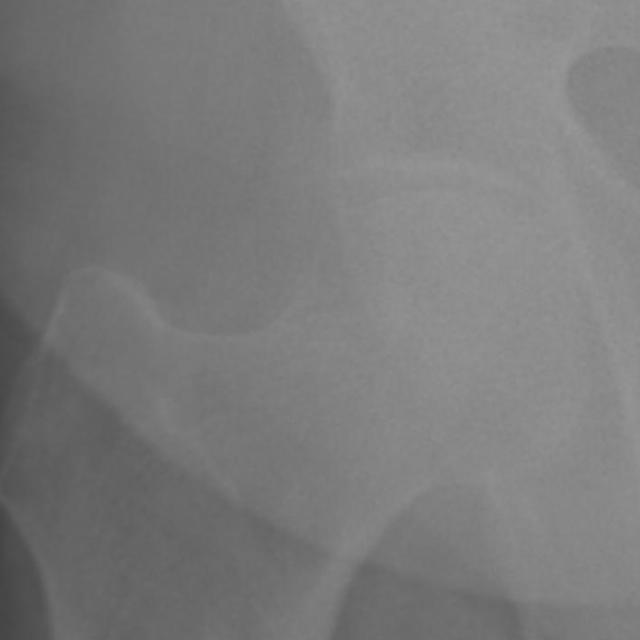Fitted_femural_head: (311, 191, 432, 311)
